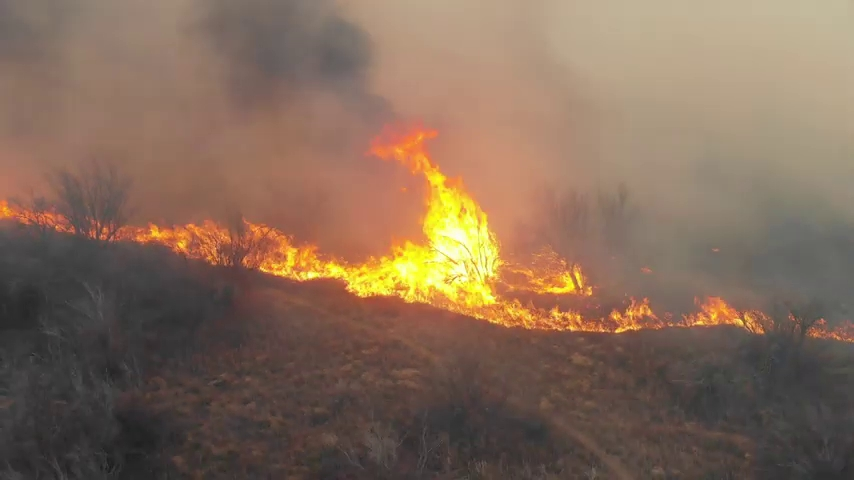forest_fire: (0, 129, 770, 332)
